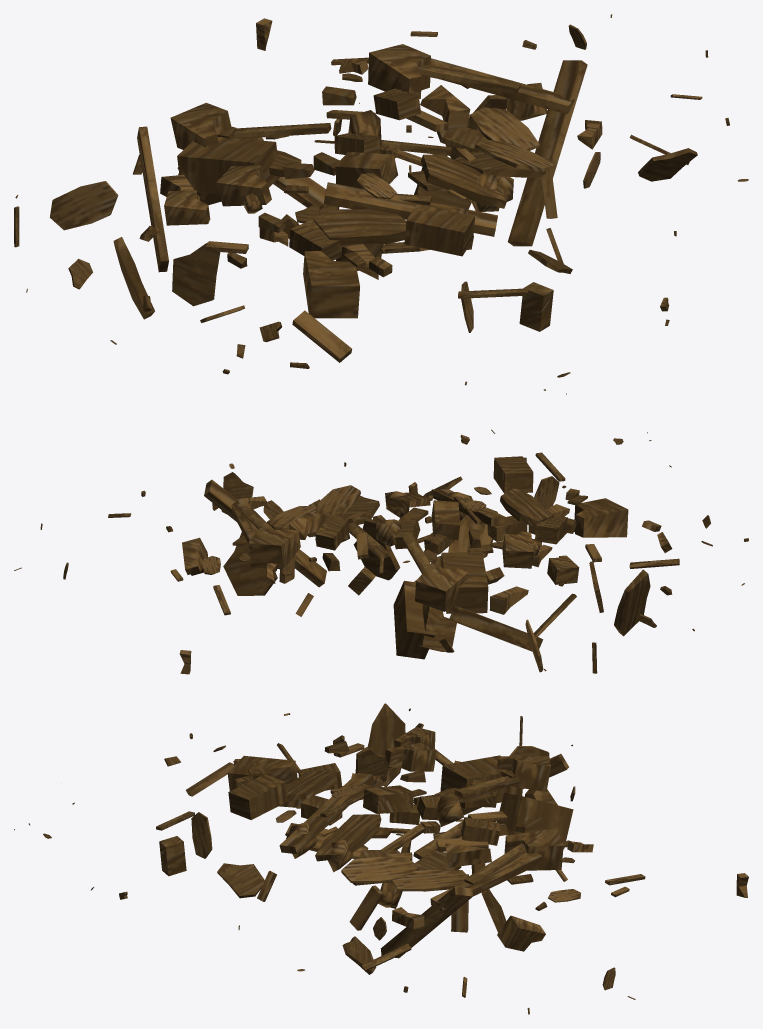
Rendered from SM_DebrisPile2.fbx.
3 views of the same model, one above another, from view 1: azimuth 30°, elevation 25°; view 2: azimuth 150°, elevation 25°; view 3: azimuth 270°, elevation 25° (orthographic). The views are drawn at different scales.
Visible parts, largest first — view 1: SM_DebrisPile2; view 2: SM_DebrisPile2; view 3: SM_DebrisPile2.
Boxes of the visible parts, x1,y1,x2,y2 form: SM_DebrisPile2: (14,14,748,394); SM_DebrisPile2: (14,429,748,674); SM_DebrisPile2: (14,703,748,1014).
Size of the model in its own units: 209 by 36.98 by 214.
